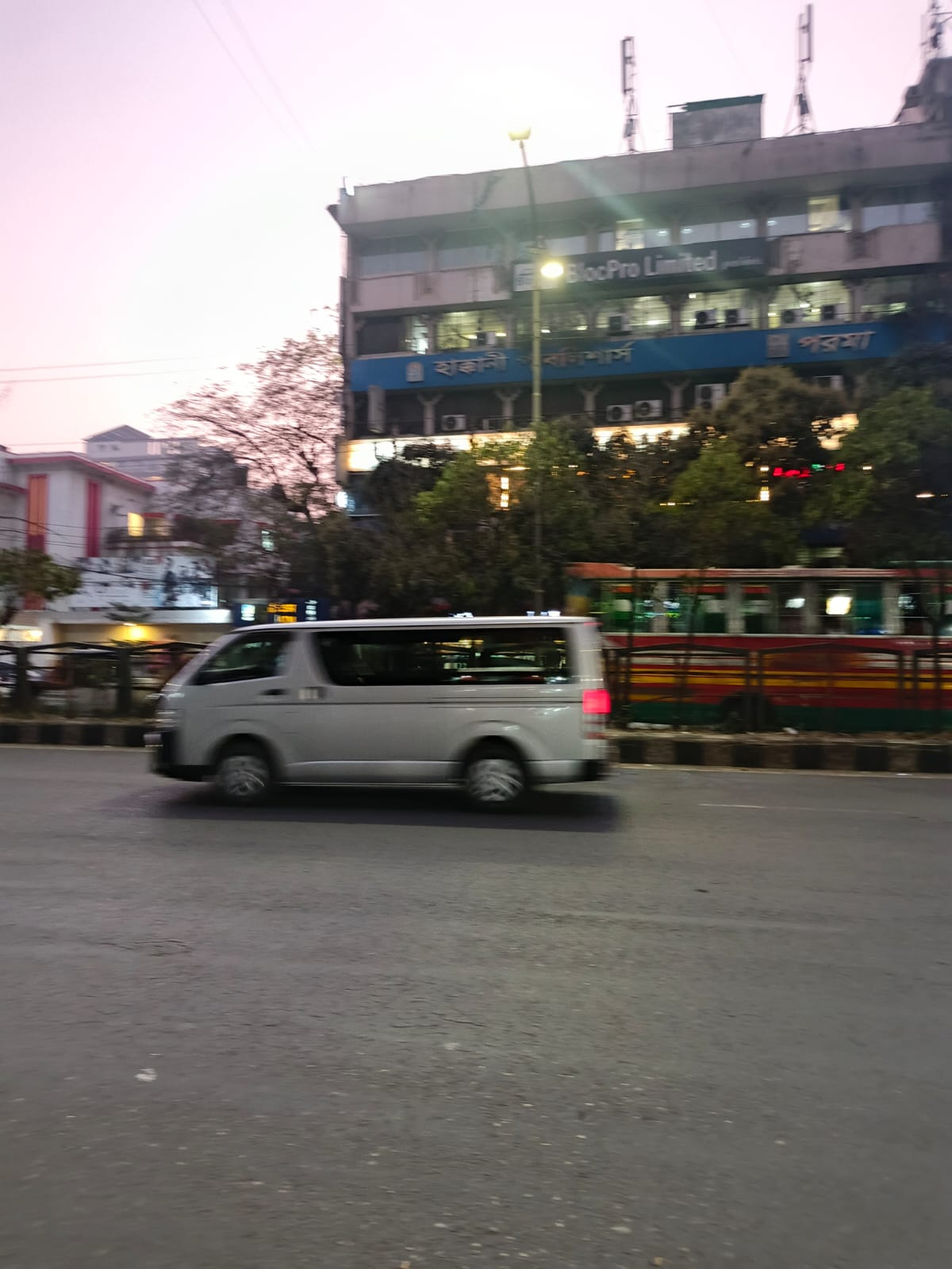Bus: (582, 566, 952, 741)
private car: (127, 603, 626, 845)
